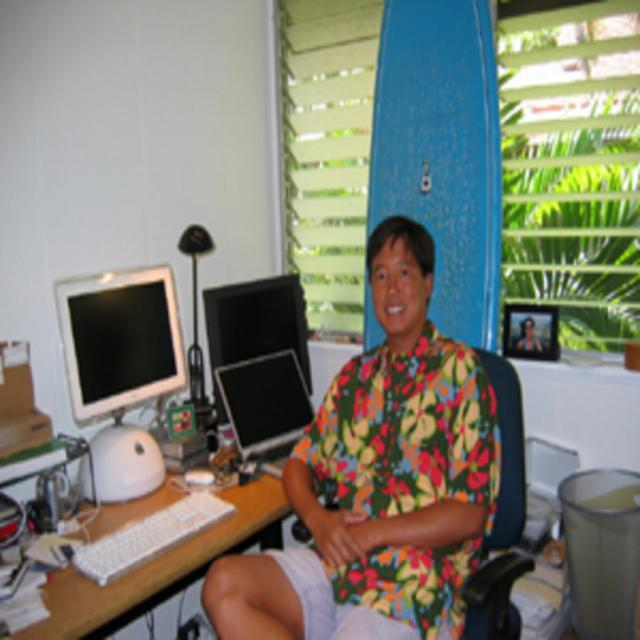desk: (13, 401, 322, 631)
keyboard: (71, 487, 237, 588)
laptop: (213, 349, 316, 475)
person: (200, 218, 502, 640)
tv: (54, 264, 188, 427), (201, 273, 313, 401)
